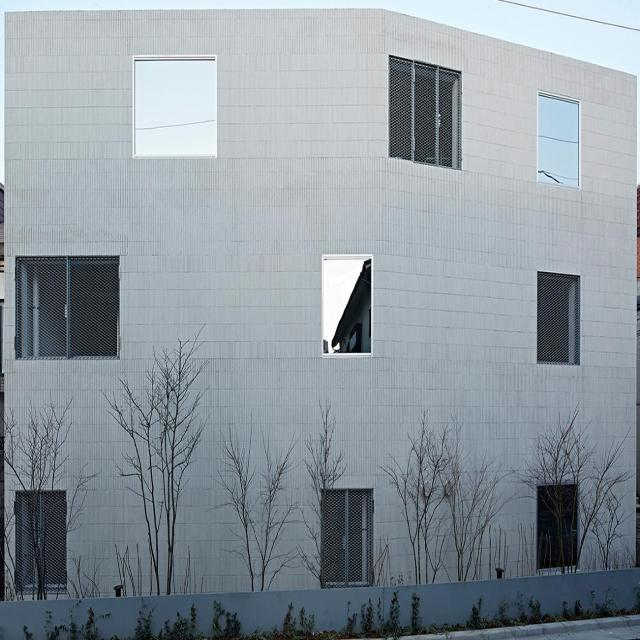wall: (2, 6, 636, 638)
windows: (15, 253, 120, 361), (132, 55, 218, 159), (389, 55, 461, 166), (15, 486, 67, 590), (322, 488, 372, 586), (323, 258, 371, 356), (536, 90, 579, 187), (536, 270, 580, 364), (538, 483, 578, 571)
